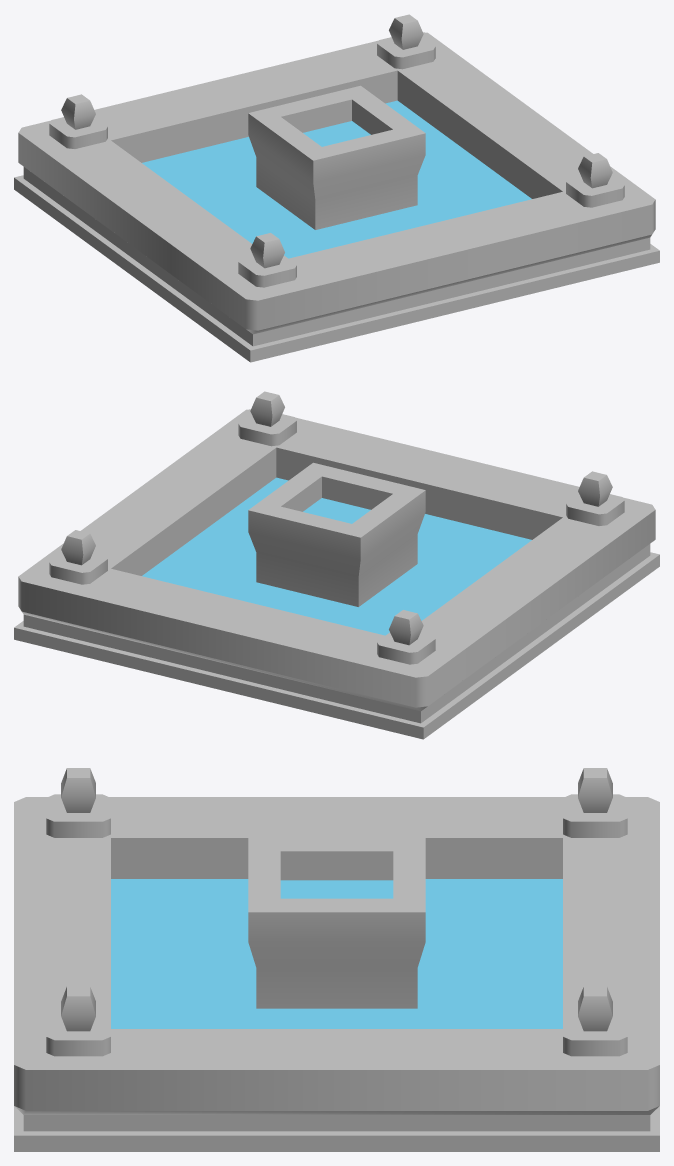
File: fountain-square-detail.obj
3 renders of one model, top to bottom at view 1: azimuth 30°, elevation 25°; view 2: azimuth 150°, elevation 25°; view 3: azimuth 270°, elevation 25°, orthographic. The views are drawn at different scales.
Visible parts, largest first — view 1: fountain-square-detail, (%ignore); view 2: fountain-square-detail, (%ignore); view 3: fountain-square-detail, (%ignore).
Part boxes in pixels (x1,y1,x2,y2): fountain-square-detail: (14,14,659,362); (%ignore): (142,100,531,258); fountain-square-detail: (14,391,659,739); (%ignore): (142,477,531,635); fountain-square-detail: (14,768,659,1151); (%ignore): (111,879,562,1028).
Bounding box in the file's own units: 2 × 0.48 × 2.
